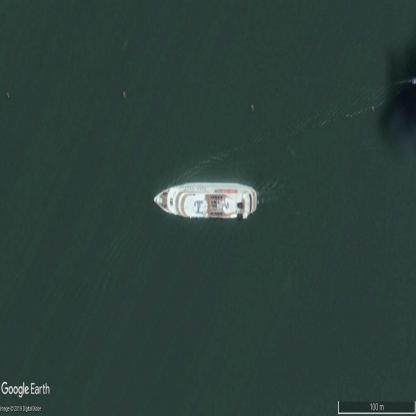ship: (154, 183, 256, 219)
